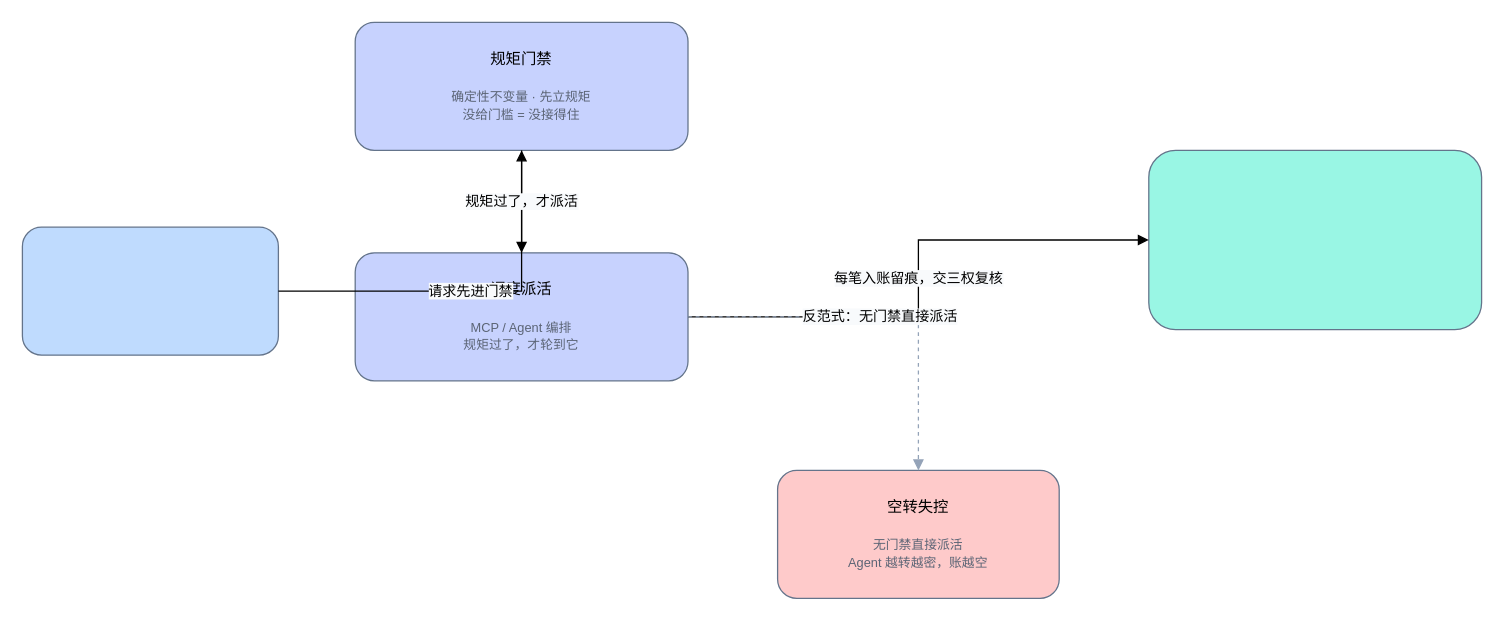
The diagram is 1504 pixels wide and 621 high, and some of its shapes have lost their labels. Each missing label, with the centre of its shape:
"一次请求 请求 / 任务意图 先过门禁再谈派活" belongs at [149,290].
"三权账并行 报告≠修复≠验证 每笔派活入账，交独立复核" belongs at [1315,239].
